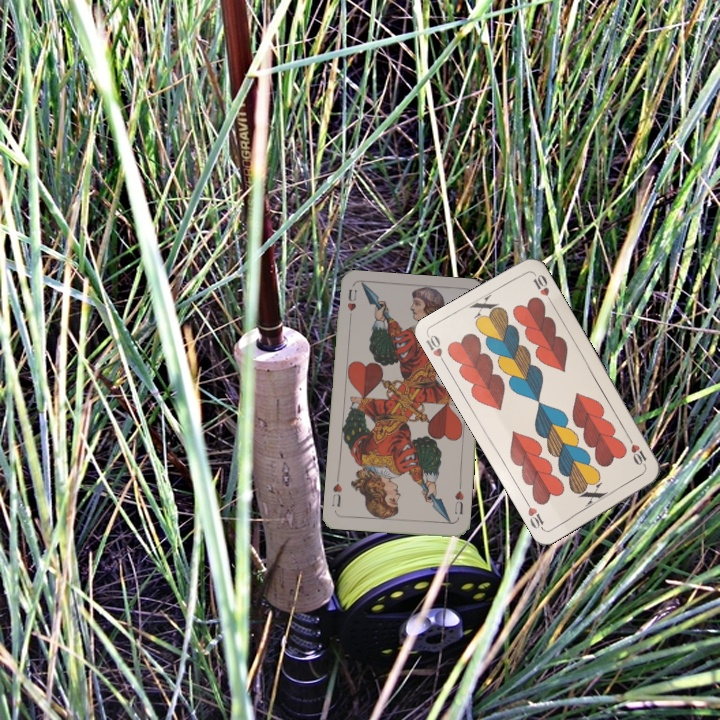H10: (422, 331, 449, 369), (624, 433, 649, 470)
HU: (343, 285, 360, 325), (451, 487, 466, 517)
